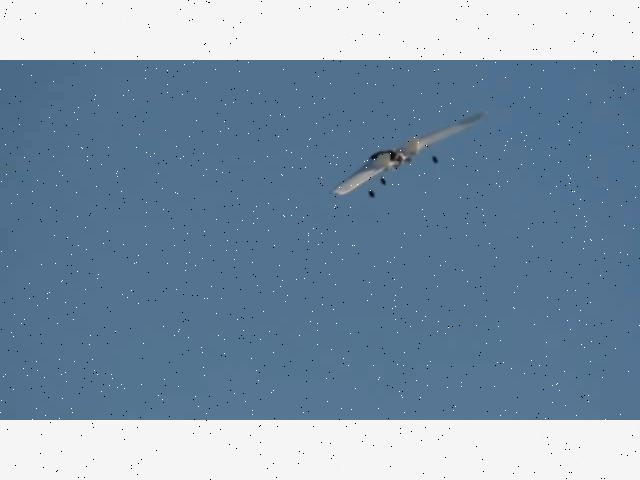Anti-Drone: (332, 114, 484, 196)
